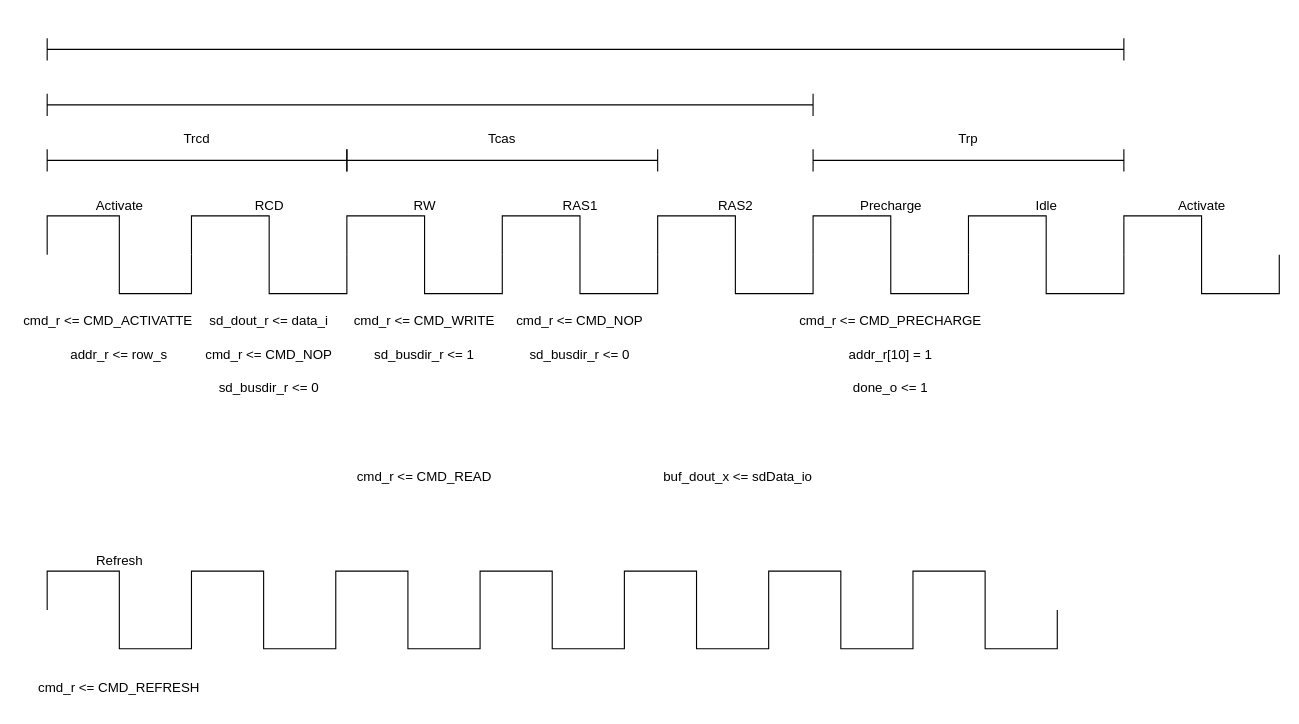
Image size: 1299x724. Some labels were removed from this diagram. The shapes that lost their labels are listed below. From the top down, each one's centre as x and y in pixels, then its label:
At pixel 585 48: "Trc".
At pixel 429 104: "Tras".
